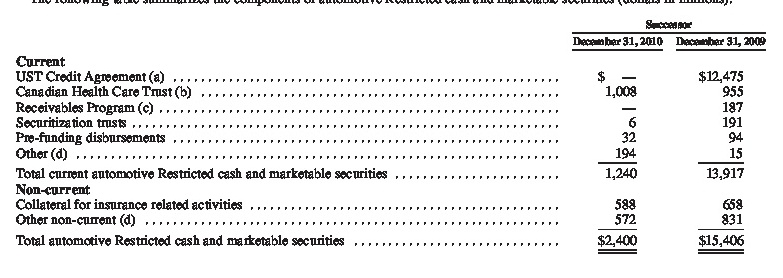table: (0, 0, 783, 278)
